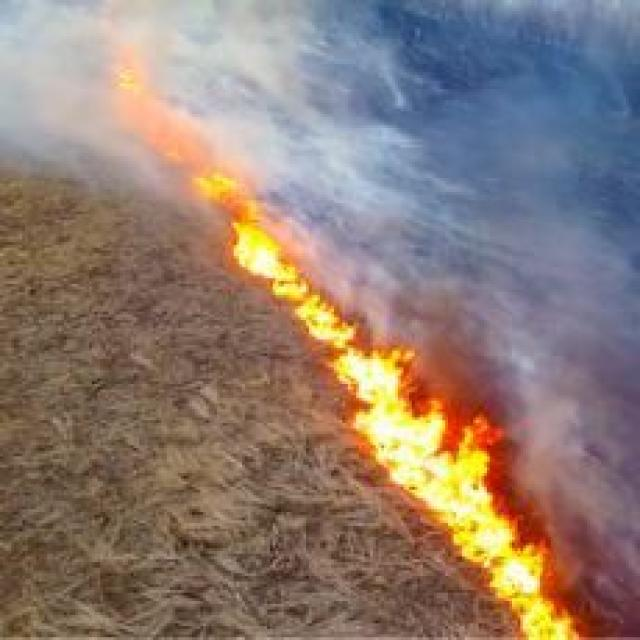Fire: (111, 68, 636, 640)
